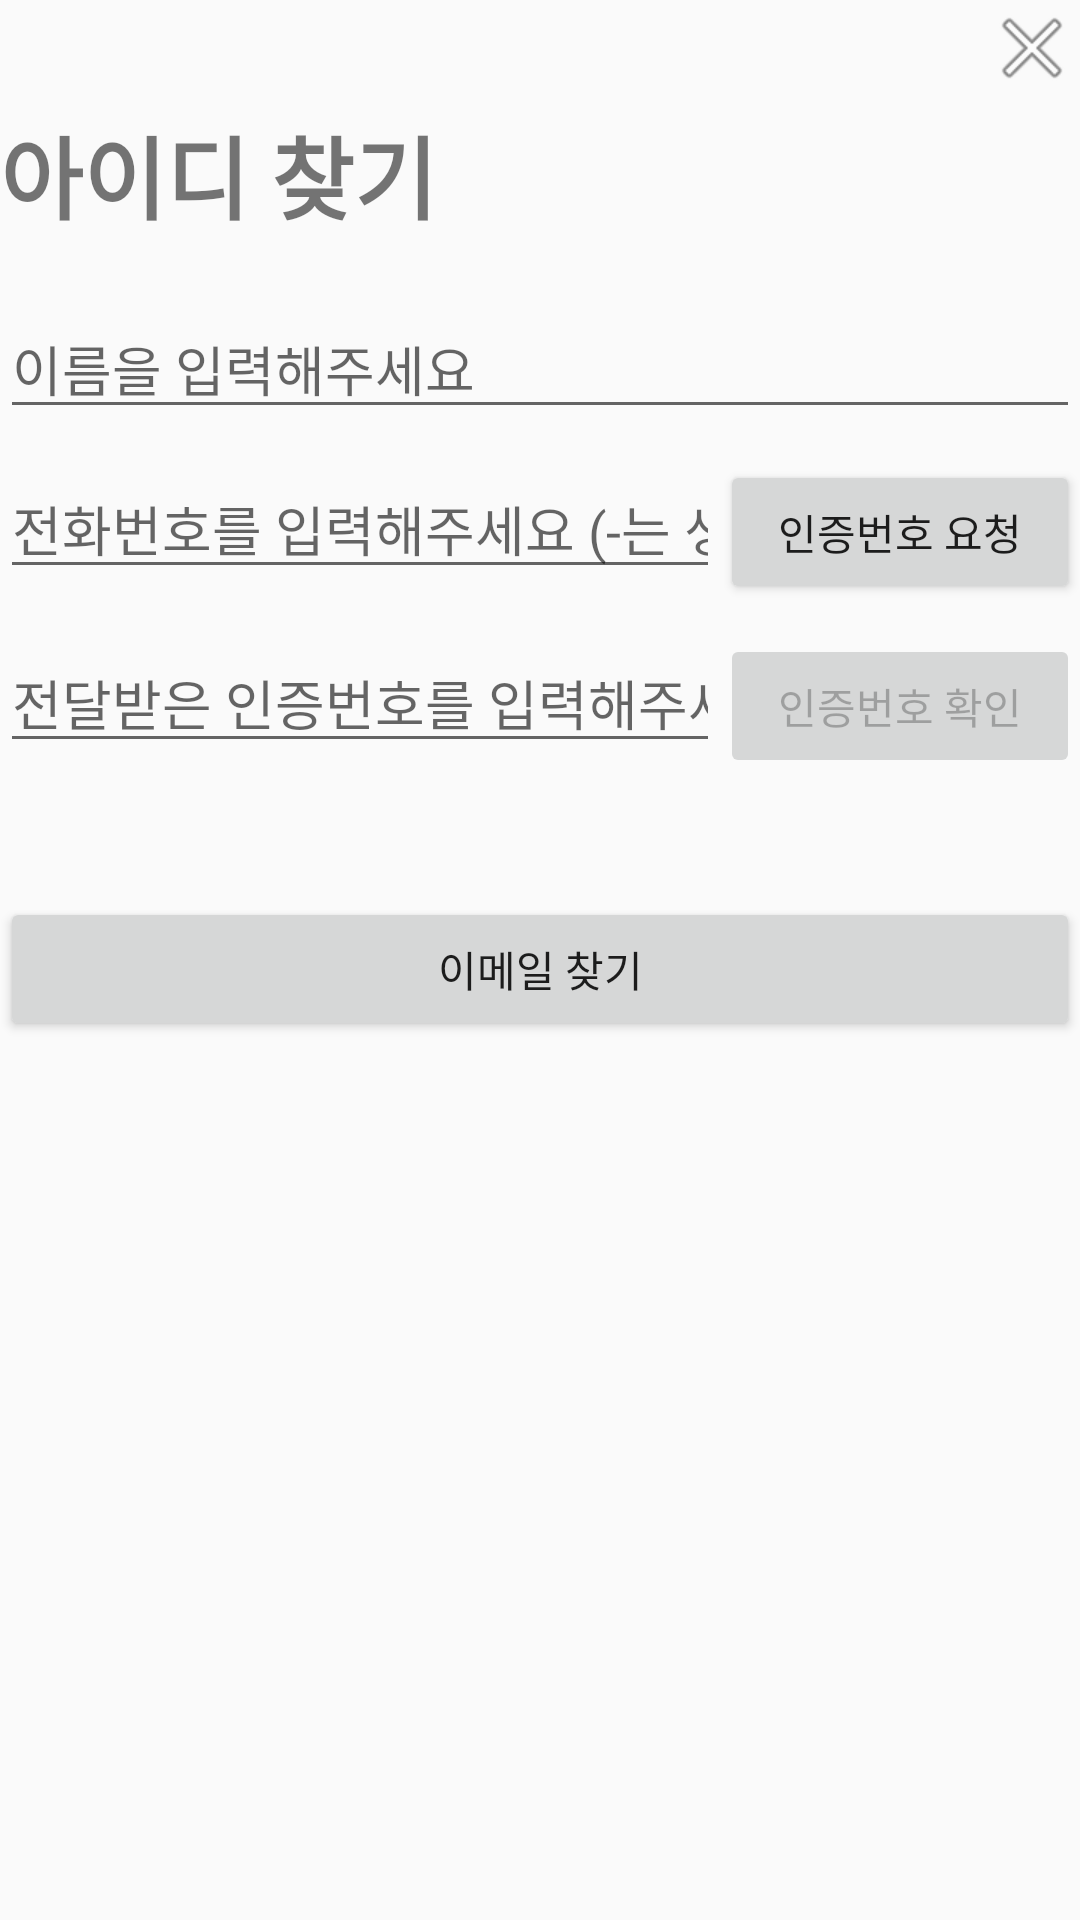

Screen size 1080px x 1920px. Icon name, then its center in pixels as (x,y):
close clear cancel: (1032,48)
